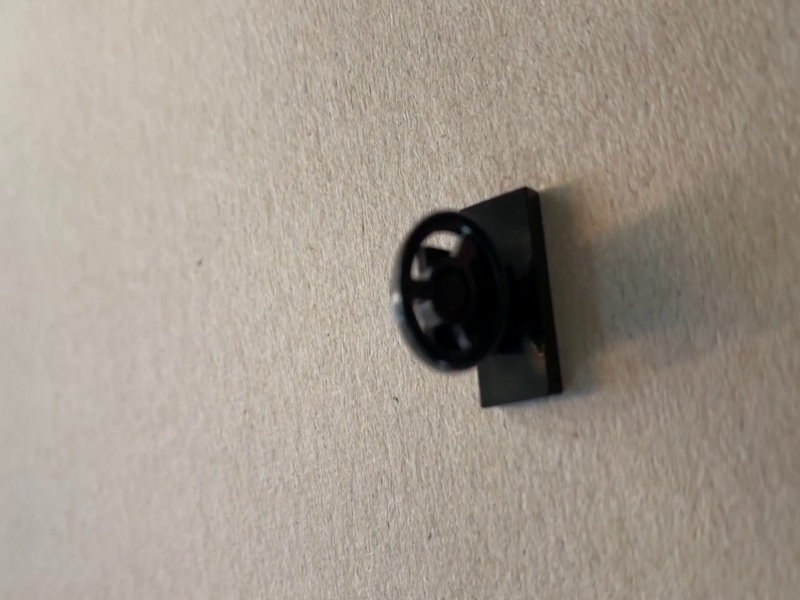steering wheel: (392, 185, 566, 410)
